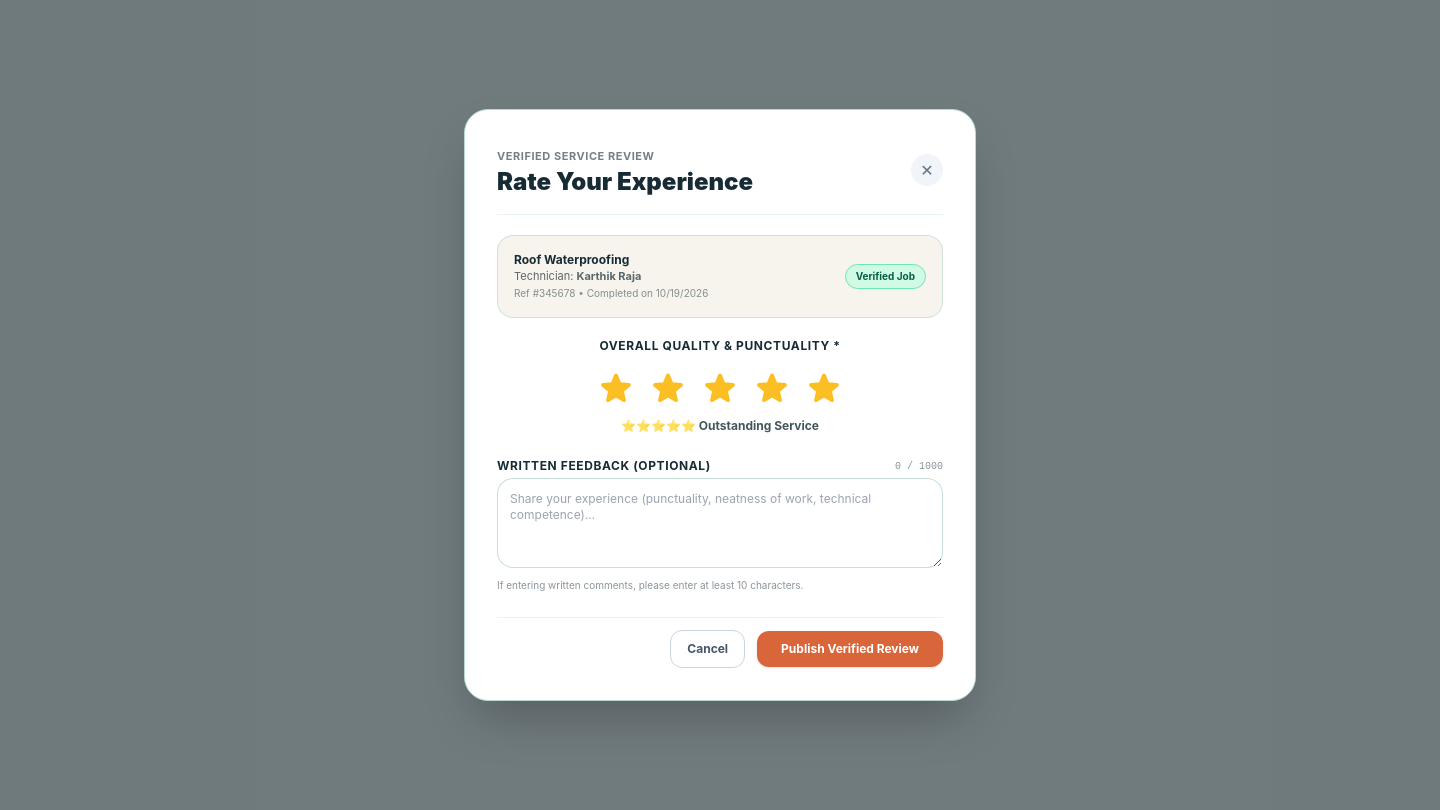
Test: ReviewModal Component › displays API error message when submission fails
The width and height of the screenshot is (1440, 810).
Click the button "Publish Verified Review" at (850, 649), box [757,631,943,667]
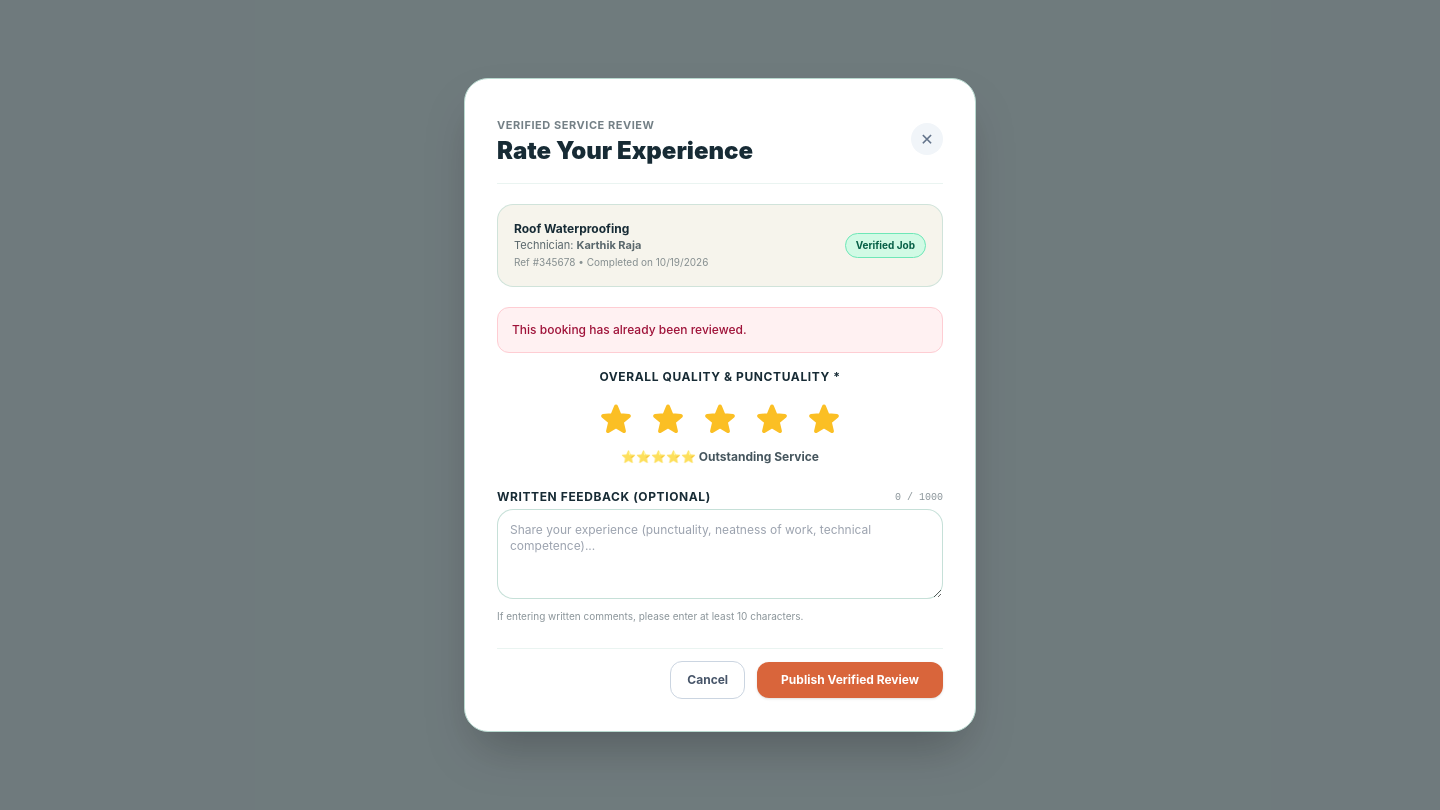
expect the text "This booking has already been reviewed." is shown: met, box [497,307,943,353]
